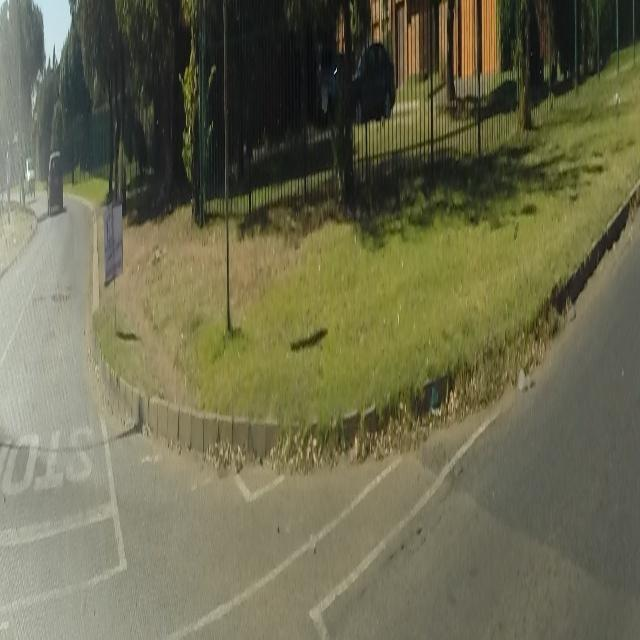pothole: (49, 288, 68, 304)
